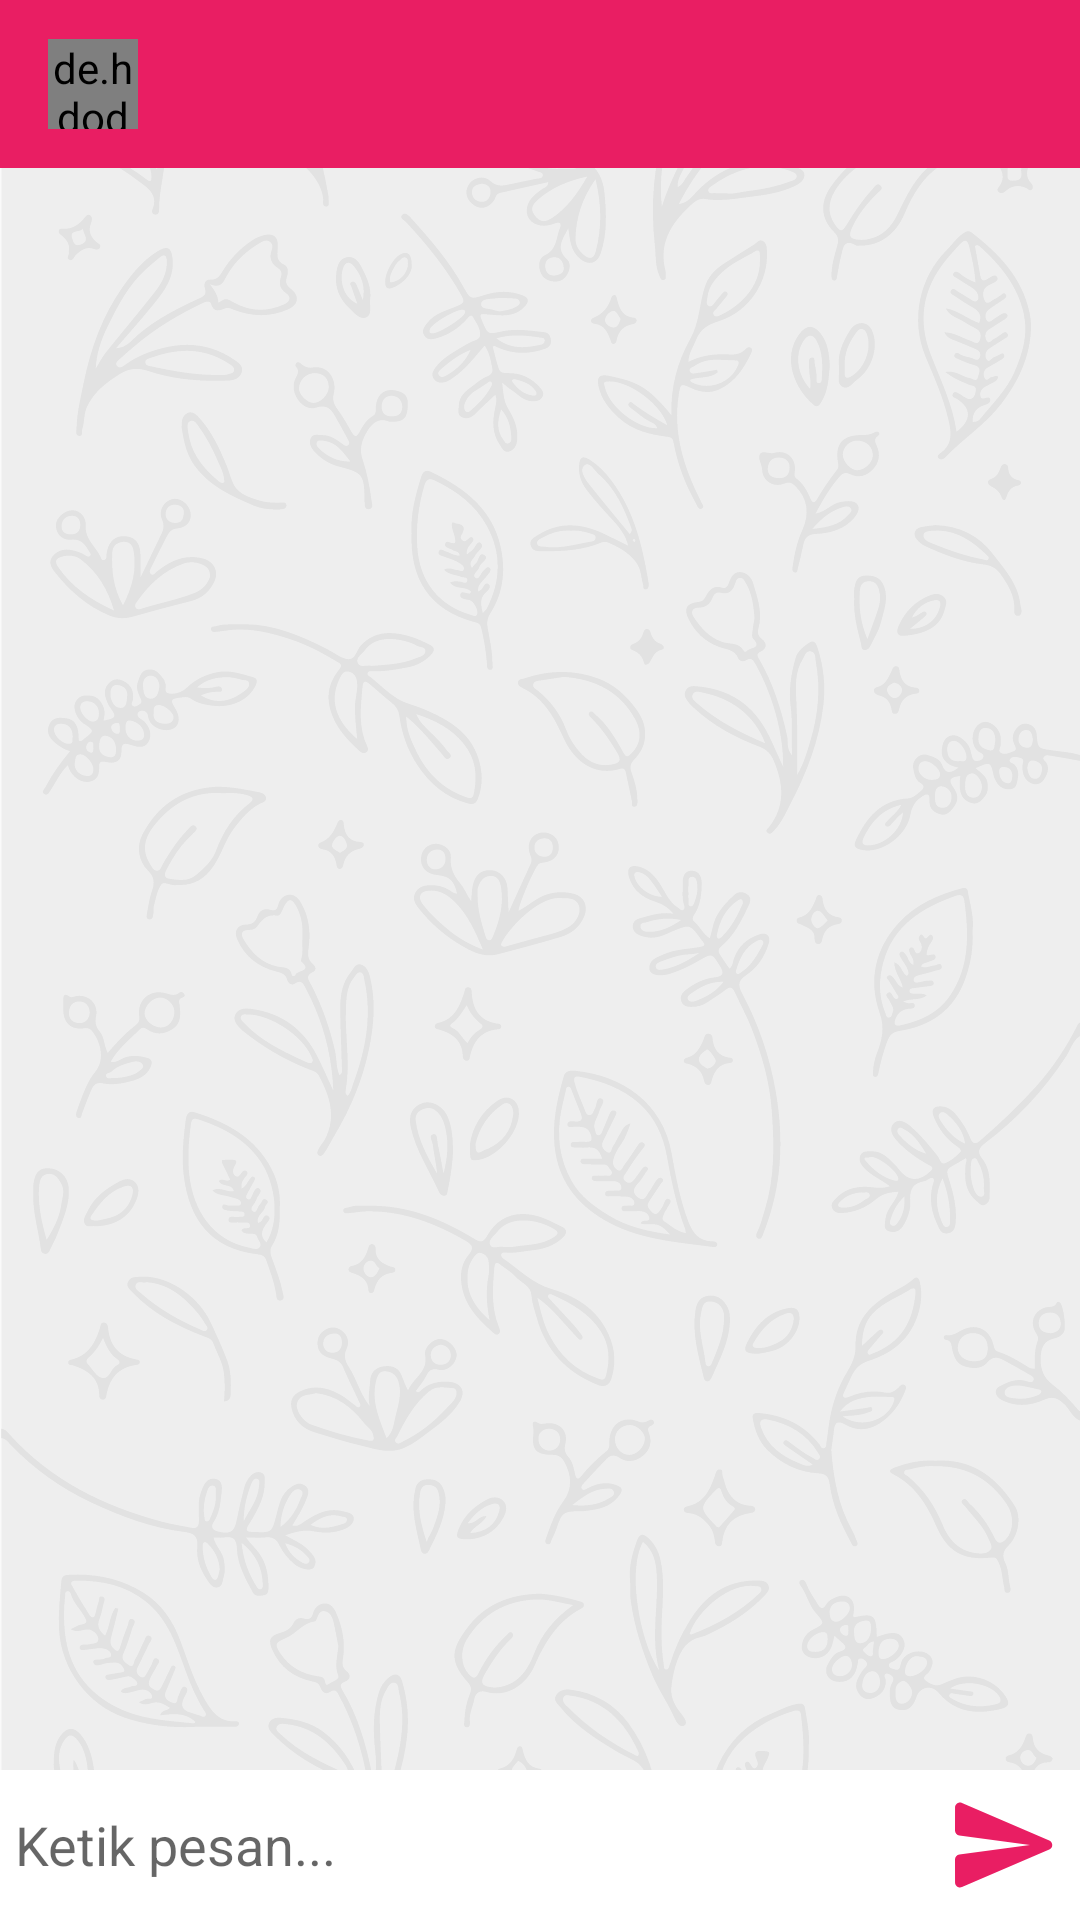

Icons on this 1080 × 1920 Android screen, each with its box as (x1,y1,x2,y2):
send: (955,1802,1053,1888)
